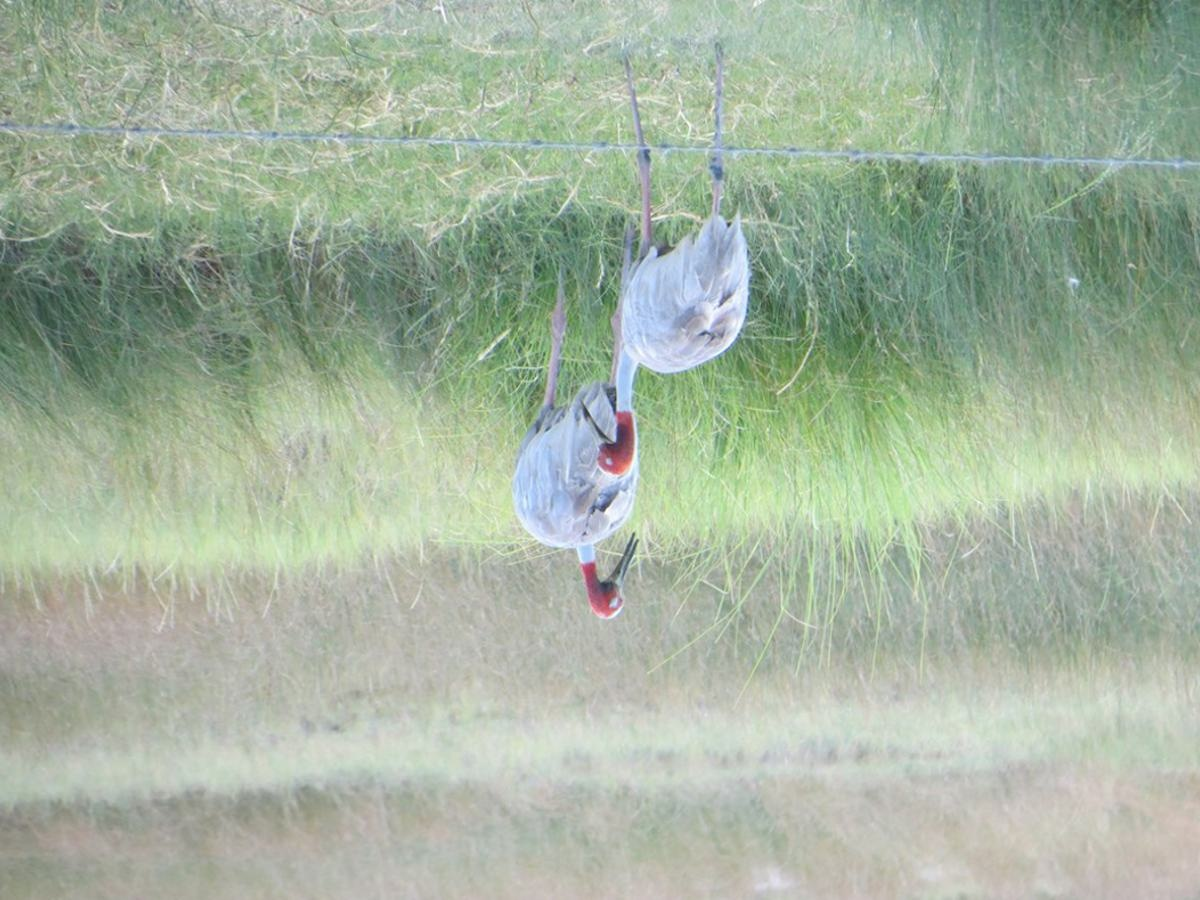crane: (576, 70, 749, 514), (516, 285, 664, 637)
